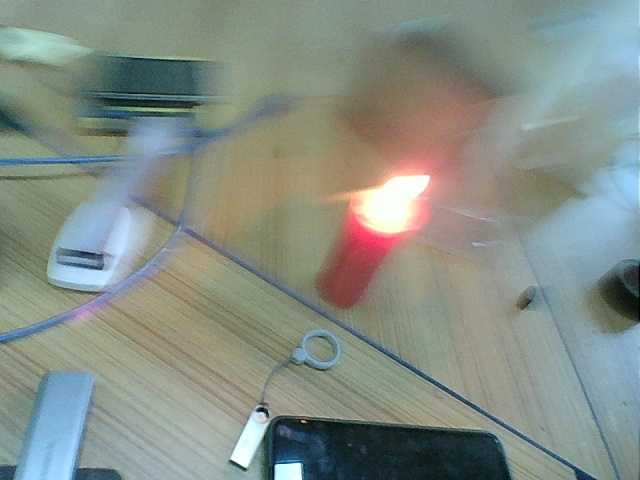candle: (305, 230, 394, 305)
fire: (354, 167, 430, 229)
